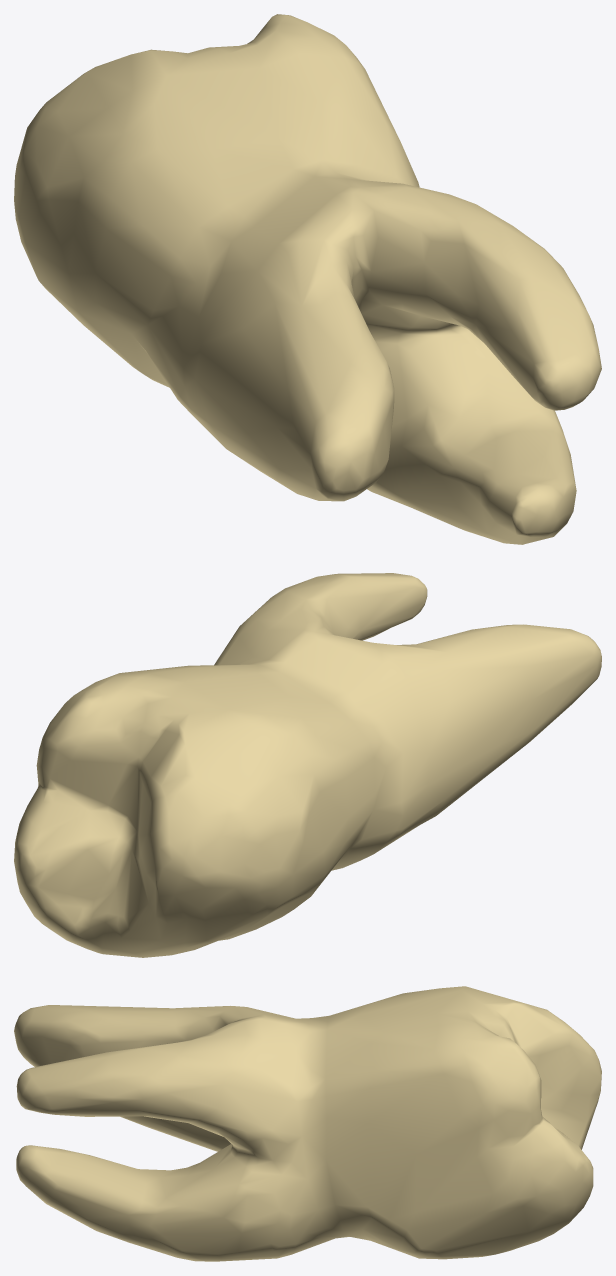
3 views of the same model, one above another, from view 1: azimuth 30°, elevation 25°; view 2: azimuth 150°, elevation 25°; view 3: azimuth 270°, elevation 25° (orthographic). The views are drawn at different scales.
Parts seen in each view (by area): view 1: 左侧上颌第二磨牙; view 2: 左侧上颌第二磨牙; view 3: 左侧上颌第二磨牙.
Boxes of the visible parts, bbox=[...] form: 左侧上颌第二磨牙: bbox=[14, 14, 601, 544]; 左侧上颌第二磨牙: bbox=[14, 573, 601, 957]; 左侧上颌第二磨牙: bbox=[14, 986, 601, 1261].
Bounding box in the file's own units: 0.0171 × 0.0142 × 0.0326.
